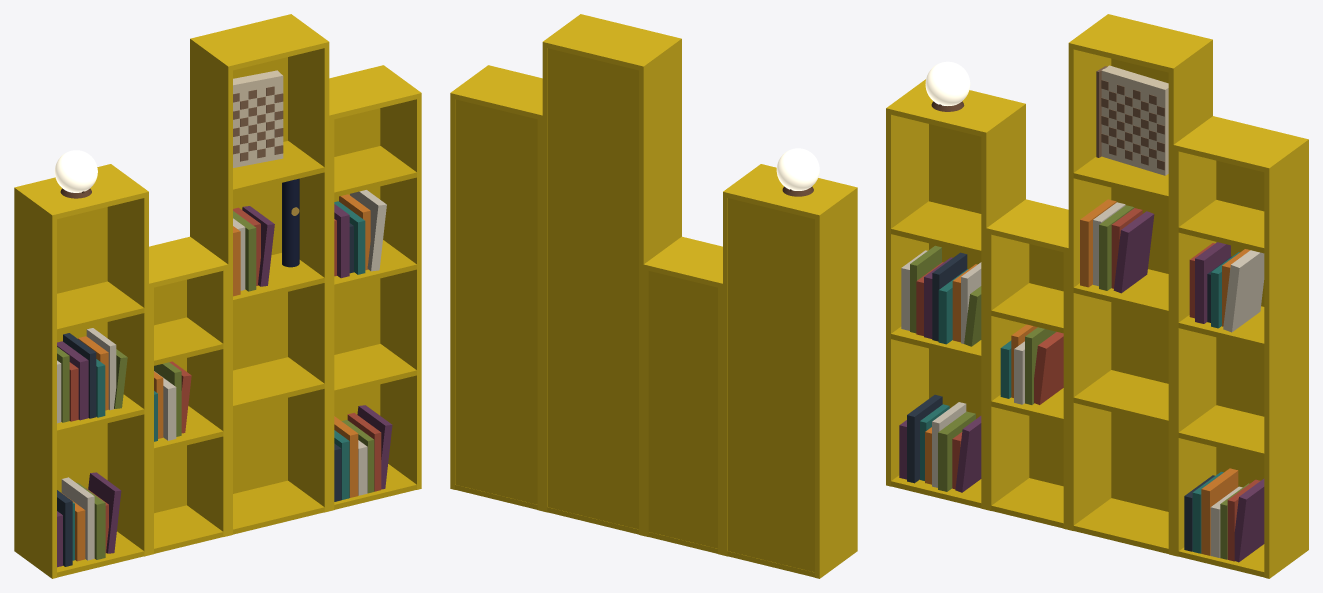
File: bookshelf.glb
3 renders of one model, left to right at view 1: azimuth 30°, elevation 25°; view 2: azimuth 150°, elevation 25°; view 3: azimuth 330°, elevation 25°, orthographic. The views are drawn at different scales.
Parts seen in each view (by area): view 1: side_left_a, side_right_c, side_right_d, side_right_a, back_c, side_left_c, side_right_b, back_a, back_d, top_c, back_b, chess_case (+50 smaller); view 2: back_c, back_d, back_a, back_b, side_left_a, side_left_c, top_c, top_a, top_d, side_right_c, top_b, side_right_d (+6 smaller); view 3: side_right_d, side_left_c, back_c, side_left_d, side_left_a, side_left_b, back_a, back_d, side_right_a, side_right_c, top_c, chess_case (+52 smaller).
Boxes of the visible parts, bbox=[...] form: side_left_a: bbox=[14, 186, 56, 578]; side_right_c: bbox=[288, 42, 329, 512]; side_right_d: bbox=[379, 65, 421, 489]; side_right_a: bbox=[106, 164, 148, 556]; back_c: bbox=[233, 57, 287, 493]; side_left_c: bbox=[190, 39, 232, 535]; side_right_b: bbox=[187, 255, 228, 536]; back_a: bbox=[57, 207, 107, 492]; back_d: bbox=[334, 108, 380, 420]; top_c: bbox=[190, 14, 328, 70]; back_b: bbox=[154, 279, 186, 513]; chess_case: bbox=[233, 70, 283, 167]; back_c: bbox=[547, 48, 638, 529]; back_d: bbox=[455, 99, 537, 504]; back_a: bbox=[728, 198, 814, 572]; back_b: bbox=[648, 271, 717, 548]; side_left_a: bbox=[815, 186, 857, 578]; side_left_c: bbox=[639, 40, 681, 535]; top_c: bbox=[543, 14, 681, 70]; top_a: bbox=[724, 165, 857, 220]; top_d: bbox=[454, 66, 542, 119]; side_right_c: bbox=[542, 42, 547, 512]; top_b: bbox=[643, 236, 722, 288]; side_right_d: bbox=[450, 65, 492, 489]; side_right_d: bbox=[1264, 138, 1308, 578]; side_left_c: bbox=[1068, 15, 1111, 530]; back_c: bbox=[1111, 58, 1168, 511]; side_left_d: bbox=[1173, 116, 1217, 556]; side_left_a: bbox=[886, 79, 928, 486]; side_left_b: bbox=[986, 228, 1029, 510]; back_a: bbox=[929, 124, 981, 418]; back_d: bbox=[1216, 160, 1264, 487]; side_right_a: bbox=[981, 102, 1025, 509]; side_right_c: bbox=[1168, 38, 1212, 555]; top_c: bbox=[1069, 14, 1212, 72]; chess_case: bbox=[1101, 65, 1168, 175].
Bounding box in the file's own units: 1.68 × 2.04 × 0.3.
